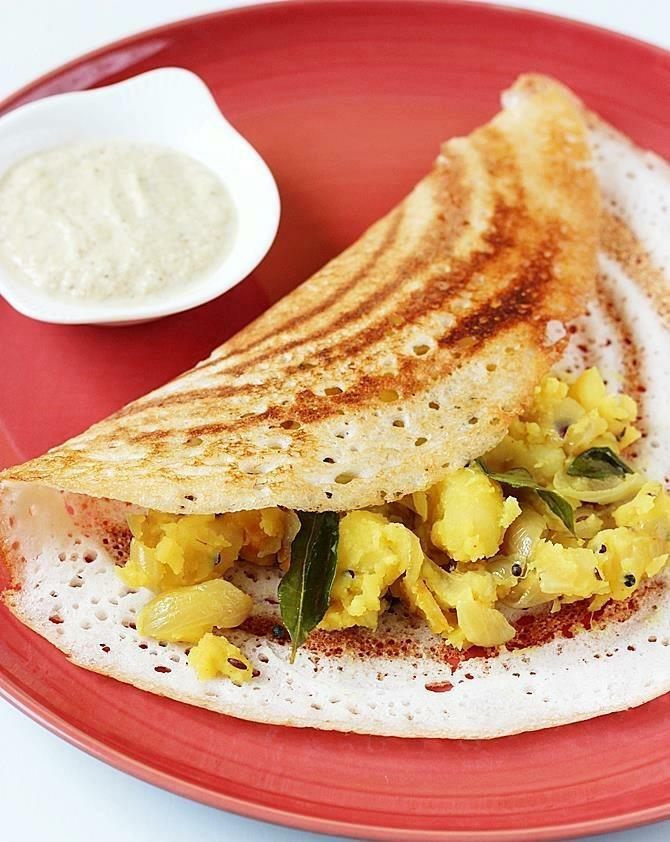CoconutChutney: (3, 139, 235, 299)
Dosa: (3, 75, 670, 739)
